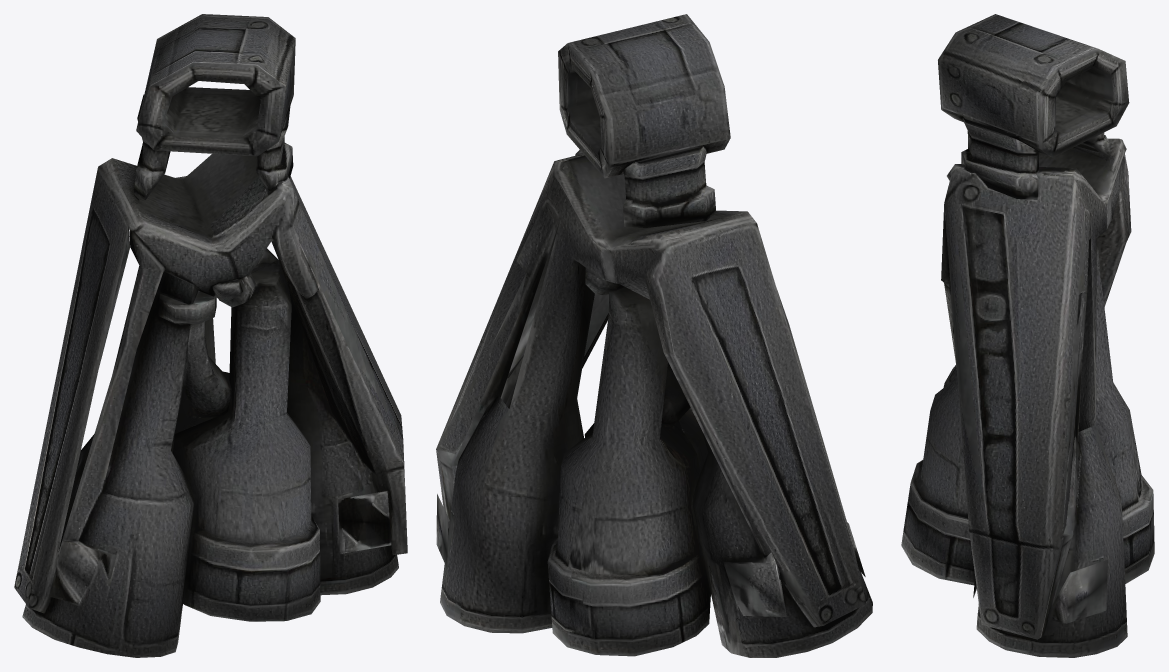
File: cold-iron-v2-propulsion-c-cluster.glb
The picture shows the model from 3 angles, left to right: view 1: azimuth 30°, elevation 25°; view 2: azimuth 150°, elevation 25°; view 3: azimuth 270°, elevation 25°; orthographic projection. The views are drawn at different scales.
Visible parts, largest first — view 1: tripo_node_0f06a776-c72b-4277-8d6e-64f15d706bbe; view 2: tripo_node_0f06a776-c72b-4277-8d6e-64f15d706bbe; view 3: tripo_node_0f06a776-c72b-4277-8d6e-64f15d706bbe.
Part boxes in pixels (x1,y1,x2,y2): tripo_node_0f06a776-c72b-4277-8d6e-64f15d706bbe: (14, 14, 407, 657); tripo_node_0f06a776-c72b-4277-8d6e-64f15d706bbe: (436, 14, 872, 657); tripo_node_0f06a776-c72b-4277-8d6e-64f15d706bbe: (901, 14, 1154, 657).
Bounding box in the file's own units: 0.7245 × 0.9987 × 0.4213.
Materials: 1 (1 with a texture image).
